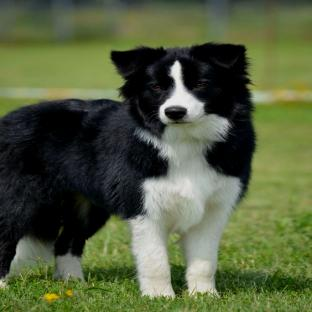Animal: (1, 43, 256, 298)
